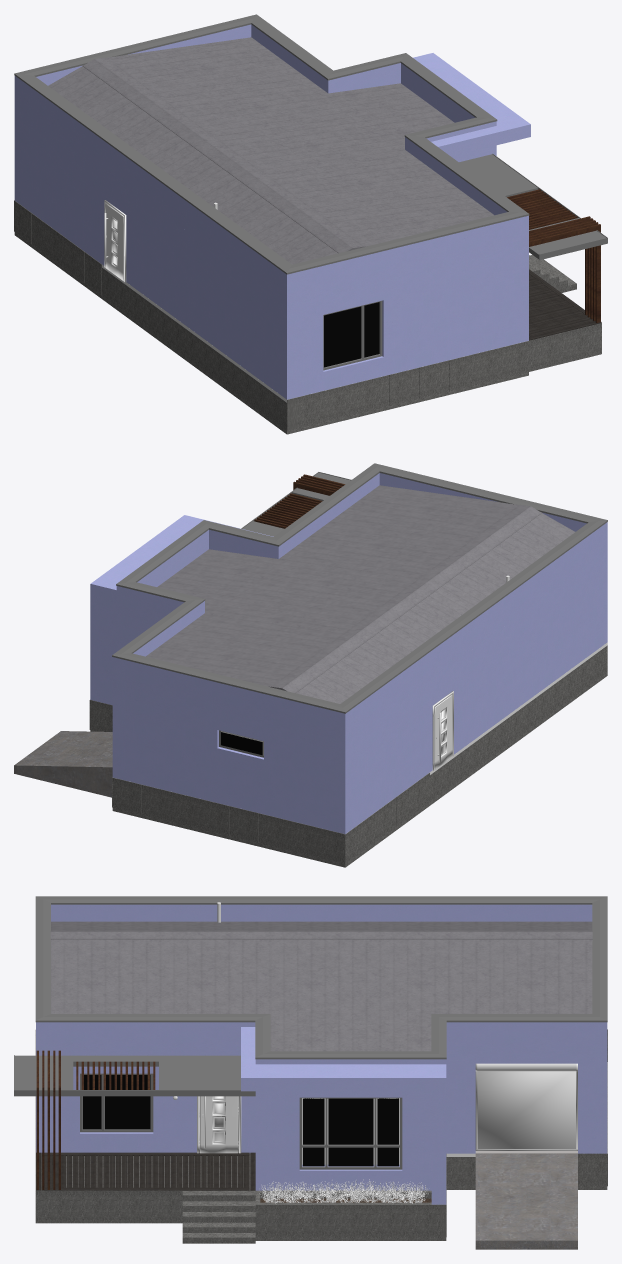
File: modern-standart.glb
3 views of the same model, one above another, from view 1: azimuth 30°, elevation 25°; view 2: azimuth 150°, elevation 25°; view 3: azimuth 270°, elevation 25° (orthographic). The views are drawn at different scales.
Parts seen in each view (by area): view 1: mesh-b63885b1-d512-4a6f-8b14-1daaf57eb6c4, mesh-e97d8574-ca0d-4f70-8a14-0bcd84e67481, mesh-e8626b00-eaa0-4954-9e79-50b8bf7d8317, mesh-aec84c76-cdb6-4d02-bd10-df908ecb3cd2, mesh-a488586c-5462-4b58-a77e-d3205da05218, mesh-a7cddaef-8655-468e-ba1d-74ae17853d0b, mesh-a5538075-97bb-4ff0-9940-9721b6c8e194, mesh-a5b6b2eb-58c8-4d94-b432-a27c83acc660, mesh-efa9803a-4367-4c8a-a239-5255fc2fb96a, mesh-a0ffb569-6578-449a-931d-de35737843d9, mesh-ed63ce6b-a864-488b-bfff-29d2138bd103, mesh-a72837d2-ed24-4265-a281-d597a6a54f21 (+22 smaller); view 2: mesh-b63885b1-d512-4a6f-8b14-1daaf57eb6c4, mesh-e97d8574-ca0d-4f70-8a14-0bcd84e67481, mesh-e8626b00-eaa0-4954-9e79-50b8bf7d8317, mesh-a488586c-5462-4b58-a77e-d3205da05218, mesh-aec84c76-cdb6-4d02-bd10-df908ecb3cd2, mesh-a7cddaef-8655-468e-ba1d-74ae17853d0b, mesh-a5538075-97bb-4ff0-9940-9721b6c8e194, mesh-a5b6b2eb-58c8-4d94-b432-a27c83acc660, mesh-efa9803a-4367-4c8a-a239-5255fc2fb96a, mesh-a0ffb569-6578-449a-931d-de35737843d9, mesh-e3ccc928-4a0b-4feb-9af2-038057dfffdb, mesh-a762a221-68f0-407b-9f7f-a1a0d9b1bf55 (+14 smaller); view 3: mesh-b63885b1-d512-4a6f-8b14-1daaf57eb6c4, mesh-e97d8574-ca0d-4f70-8a14-0bcd84e67481, mesh-e8626b00-eaa0-4954-9e79-50b8bf7d8317, mesh-a488586c-5462-4b58-a77e-d3205da05218, mesh-aec84c76-cdb6-4d02-bd10-df908ecb3cd2, mesh-a5538075-97bb-4ff0-9940-9721b6c8e194, mesh-e3ccc928-4a0b-4feb-9af2-038057dfffdb, mesh-d033511f-6a76-47f2-bb1c-94196067893d, mesh-a0ffb569-6578-449a-931d-de35737843d9, mesh-efa9803a-4367-4c8a-a239-5255fc2fb96a, mesh-ed63ce6b-a864-488b-bfff-29d2138bd103, mesh-a7cddaef-8655-468e-ba1d-74ae17853d0b (+33 smaller).
Part boxes in pixels (x1=…): mesh-b63885b1-d512-4a6f-8b14-1daaf57eb6c4: x1=14, y1=106, x2=528, y2=399; mesh-e97d8574-ca0d-4f70-8a14-0bcd84e67481: x1=14, y1=24, x2=528, y2=304; mesh-e8626b00-eaa0-4954-9e79-50b8bf7d8317: x1=183, y1=83, x2=454, y2=169; mesh-aec84c76-cdb6-4d02-bd10-df908ecb3cd2: x1=14, y1=14, x2=529, y2=274; mesh-a488586c-5462-4b58-a77e-d3205da05218: x1=260, y1=149, x2=493, y2=249; mesh-a7cddaef-8655-468e-ba1d-74ae17853d0b: x1=48, y1=66, x2=352, y2=264; mesh-a5538075-97bb-4ff0-9940-9721b6c8e194: x1=107, y1=37, x2=327, y2=113; mesh-a5b6b2eb-58c8-4d94-b432-a27c83acc660: x1=14, y1=232, x2=528, y2=434; mesh-efa9803a-4367-4c8a-a239-5255fc2fb96a: x1=83, y1=57, x2=364, y2=253; mesh-a0ffb569-6578-449a-931d-de35737843d9: x1=413, y1=53, x2=530, y2=156; mesh-ed63ce6b-a864-488b-bfff-29d2138bd103: x1=459, y1=154, x2=605, y2=259; mesh-a72837d2-ed24-4265-a281-d597a6a54f21: x1=324, y1=306, x2=361, y2=367; mesh-b63885b1-d512-4a6f-8b14-1daaf57eb6c4: x1=112, y1=551, x2=607, y2=834; mesh-e97d8574-ca0d-4f70-8a14-0bcd84e67481: x1=112, y1=473, x2=607, y2=742; mesh-e8626b00-eaa0-4954-9e79-50b8bf7d8317: x1=157, y1=549, x2=417, y2=632; mesh-a488586c-5462-4b58-a77e-d3205da05218: x1=279, y1=485, x2=518, y2=578; mesh-aec84c76-cdb6-4d02-bd10-df908ecb3cd2: x1=112, y1=463, x2=607, y2=713; mesh-a7cddaef-8655-468e-ba1d-74ae17853d0b: x1=282, y1=513, x2=574, y2=703; mesh-a5538075-97bb-4ff0-9940-9721b6c8e194: x1=146, y1=613, x2=343, y2=689; mesh-a5b6b2eb-58c8-4d94-b432-a27c83acc660: x1=112, y1=645, x2=607, y2=867; mesh-efa9803a-4367-4c8a-a239-5255fc2fb96a: x1=271, y1=504, x2=541, y2=693; mesh-a0ffb569-6578-449a-931d-de35737843d9: x1=90, y1=515, x2=273, y2=705; mesh-e3ccc928-4a0b-4feb-9af2-038057dfffdb: x1=14, y1=731, x2=112, y2=797; mesh-a762a221-68f0-407b-9f7f-a1a0d9b1bf55: x1=432, y1=691, x2=453, y2=770; mesh-b63885b1-d512-4a6f-8b14-1daaf57eb6c4: x1=36, y1=1054, x2=607, y2=1190; mesh-e97d8574-ca0d-4f70-8a14-0bcd84e67481: x1=36, y1=904, x2=607, y2=1064; mesh-e8626b00-eaa0-4954-9e79-50b8bf7d8317: x1=270, y1=939, x2=431, y2=1051; mesh-a488586c-5462-4b58-a77e-d3205da05218: x1=50, y1=939, x2=270, y2=1013; mesh-aec84c76-cdb6-4d02-bd10-df908ecb3cd2: x1=35, y1=896, x2=607, y2=1059; mesh-a5538075-97bb-4ff0-9940-9721b6c8e194: x1=431, y1=939, x2=592, y2=1013; mesh-e3ccc928-4a0b-4feb-9af2-038057dfffdb: x1=475, y1=1153, x2=577, y2=1249; mesh-d033511f-6a76-47f2-bb1c-94196067893d: x1=475, y1=1063, x2=577, y2=1150; mesh-a0ffb569-6578-449a-931d-de35737843d9: x1=241, y1=1027, x2=446, y2=1204; mesh-efa9803a-4367-4c8a-a239-5255fc2fb96a: x1=50, y1=929, x2=592, y2=939; mesh-ed63ce6b-a864-488b-bfff-29d2138bd103: x1=14, y1=1055, x2=240, y2=1089; mesh-a7cddaef-8655-468e-ba1d-74ae17853d0b: x1=51, y1=921, x2=592, y2=929.
Bounding box in the file's own units: 12.06 × 5.17 × 16.21.
11 materials, 7 textured.
